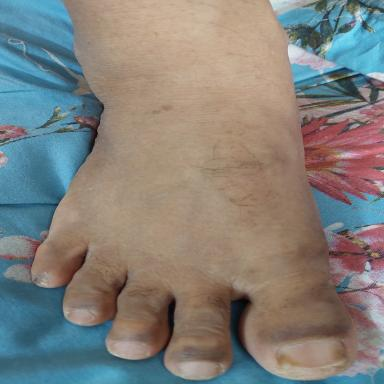normal skin: (32, 0, 357, 380)
